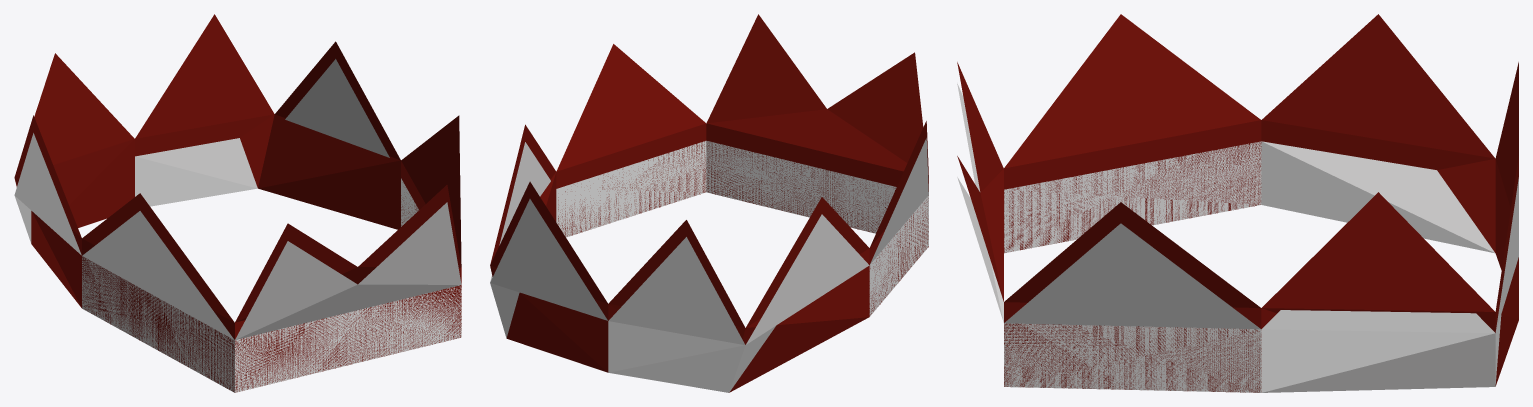
Rendered from model_87_obj_wear.obj.
The picture shows the model from 3 angles, left to right: view 1: azimuth 30°, elevation 25°; view 2: azimuth 150°, elevation 25°; view 3: azimuth 270°, elevation 25°; orthographic projection. The views are drawn at different scales.
Visible parts, largest first — view 1: 87; view 2: 87; view 3: 87.
Boxes of the visible parts, left/top/right/bottom form: 87: left=14, top=14, right=461, bottom=392; 87: left=490, top=14, right=928, bottom=392; 87: left=957, top=14, right=1518, bottom=392.
Size of the model in its own units: 76 by 40 by 96.
